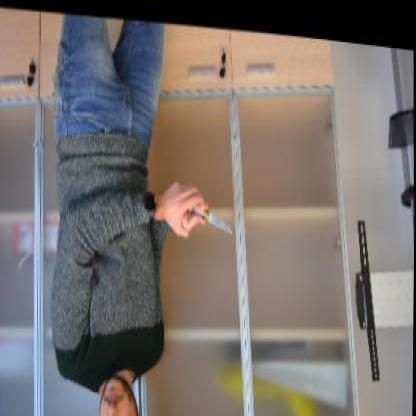knife: (186, 193, 235, 231)
